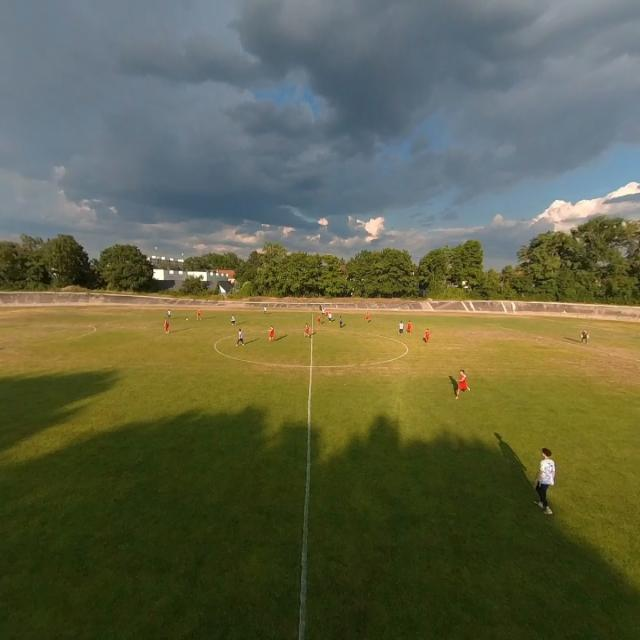ball: (186, 317, 188, 322)
